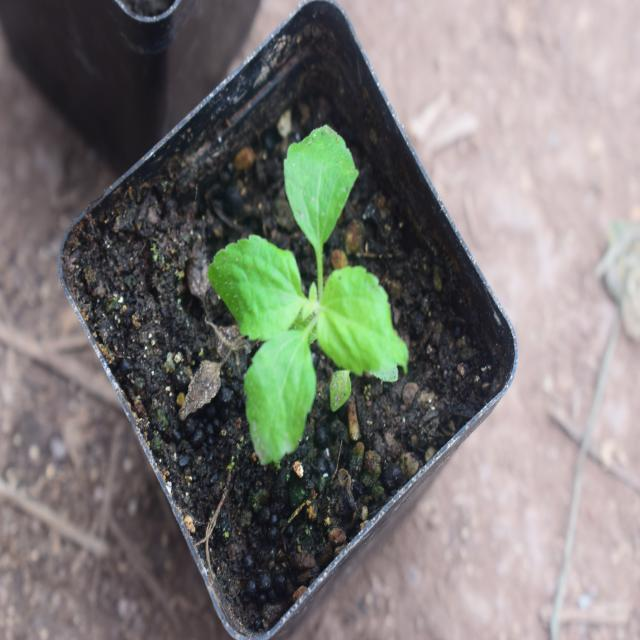billygoat_weed: (191, 117, 405, 450)
